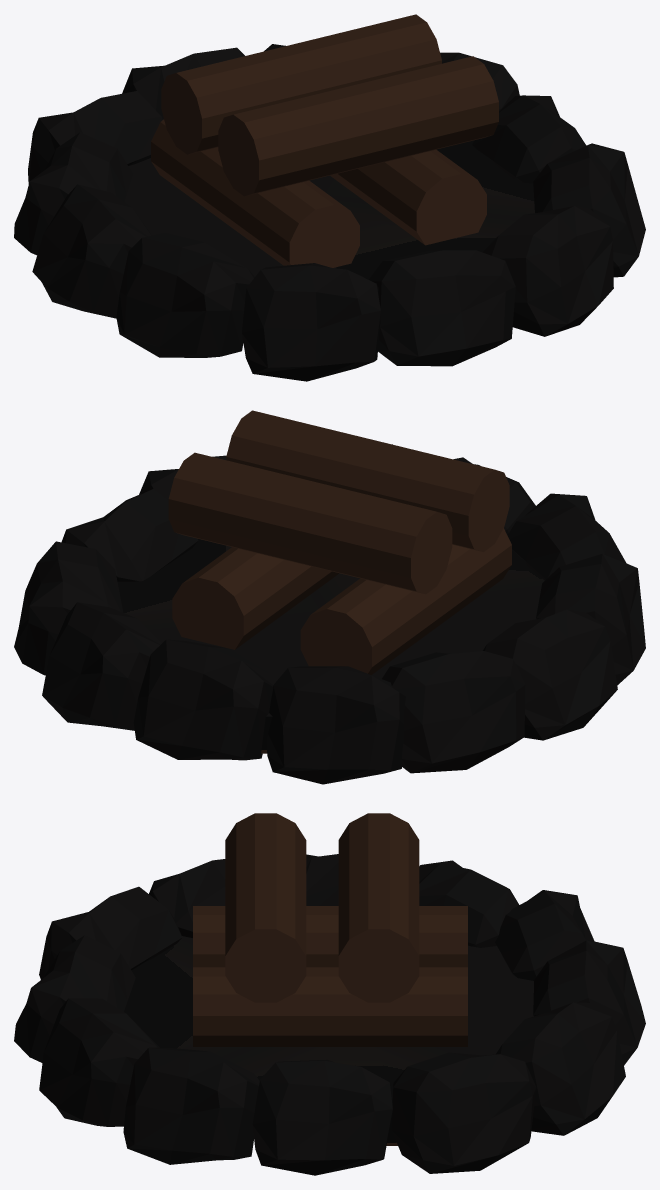
The model's file is campfire.gltf.
3 renders of one model, top to bottom at view 1: azimuth 30°, elevation 25°; view 2: azimuth 150°, elevation 25°; view 3: azimuth 270°, elevation 25°, orthographic.
Visible parts, largest first — view 1: Campfire; view 2: Campfire; view 3: Campfire.
Part boxes in pixels (<box>): Campfire: <box>14,14,645,381</box>; Campfire: <box>14,410,645,784</box>; Campfire: <box>14,813,645,1175</box>.
Bounding box in the file's own units: 1.26 × 0.4374 × 1.3.
Materials: 1 (1 with a texture image).
